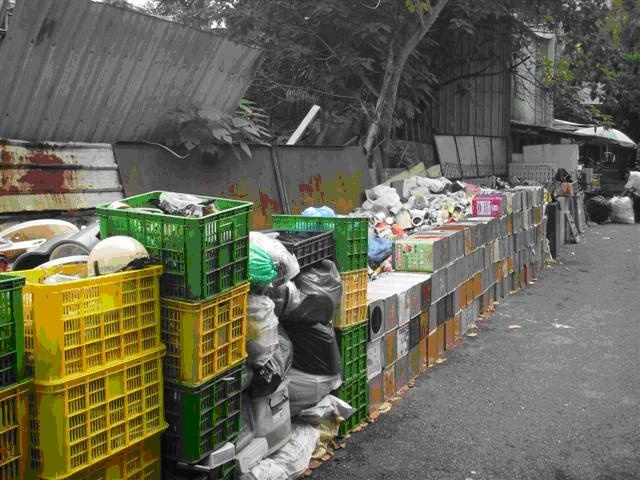bucket: (392, 240, 442, 273), (473, 195, 504, 218)
plastic_bag: (250, 228, 344, 452), (586, 192, 610, 224), (609, 194, 633, 225)
